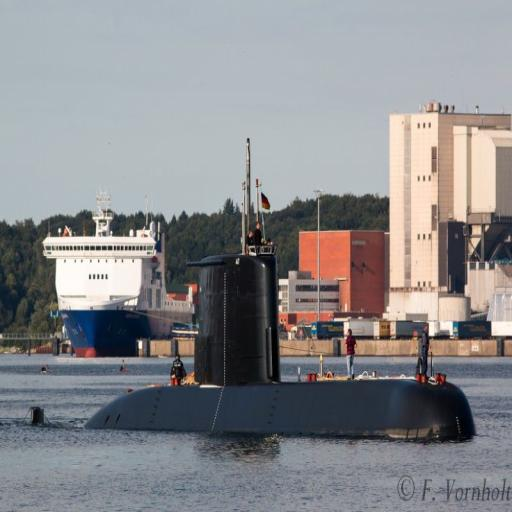submarine: (37, 145, 489, 435)
